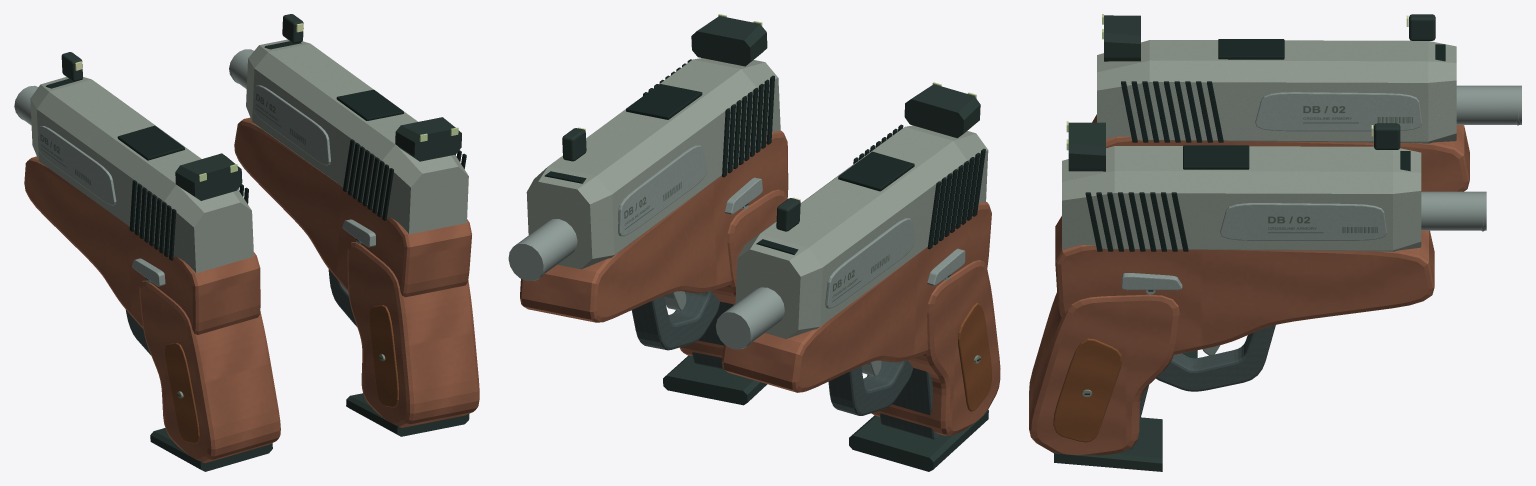
File: dualberettas.glb
3 views of the same model, side by side, from view 1: azimuth 30°, elevation 25°; view 2: azimuth 150°, elevation 25°; view 3: azimuth 270°, elevation 25° (orthographic). The views are drawn at different scales.
Parts seen in each view (by area): view 1: dualberettas, bolt (×2), magazine (×2); view 2: bolt (×2), dualberettas, magazine (×2); view 3: bolt (×2), dualberettas, magazine.
Part boxes in pixels (x1,y1,x2,y2): dualberettas: [14, 49, 479, 463]; bolt (×2): [30, 14, 468, 273]; magazine (×2): [150, 393, 469, 471]; bolt (×2): [526, 14, 988, 338]; dualberettas: [508, 130, 1000, 436]; magazine (×2): [663, 301, 988, 471]; bolt (×2): [1062, 14, 1456, 251]; dualberettas: [1029, 85, 1521, 455]; magazine: [1054, 385, 1162, 471].
Size of the model in its own units: 0.3575 by 0.3793 by 0.5046.
Materials: 15 (13 with a texture image).
